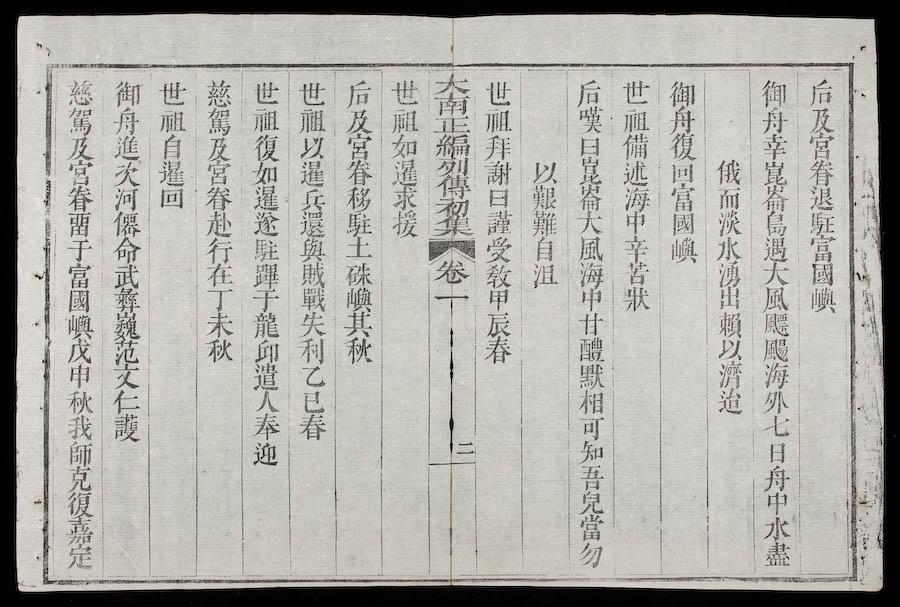c: (433, 258, 472, 285), (431, 73, 473, 97), (111, 77, 144, 107), (109, 413, 142, 443), (432, 135, 473, 159), (433, 215, 475, 238), (758, 78, 790, 108), (62, 517, 96, 545), (203, 78, 234, 108), (389, 210, 421, 239), (666, 79, 698, 108), (250, 311, 282, 340), (110, 313, 142, 342), (64, 77, 96, 106), (619, 78, 651, 107), (389, 78, 421, 107), (435, 175, 472, 200), (806, 76, 836, 106), (344, 78, 374, 108), (157, 78, 188, 107), (483, 79, 514, 108), (296, 80, 328, 108), (762, 541, 794, 569), (110, 107, 142, 135), (805, 235, 838, 262), (63, 313, 96, 340), (575, 78, 604, 108), (667, 133, 698, 161), (389, 159, 420, 187), (250, 79, 281, 107), (297, 413, 328, 441), (203, 108, 234, 136), (250, 134, 281, 162), (528, 211, 560, 238), (805, 133, 837, 160), (805, 159, 837, 186), (807, 287, 839, 314), (620, 286, 652, 313), (482, 338, 514, 365), (667, 237, 699, 264), (296, 311, 328, 338), (63, 415, 96, 441), (342, 338, 375, 364), (62, 545, 96, 570), (65, 106, 95, 134), (806, 106, 836, 134), (575, 107, 605, 135), (714, 158, 744, 186), (668, 184, 698, 212), (482, 135, 513, 162), (296, 108, 327, 135), (620, 134, 651, 161), (483, 237, 514, 264), (251, 412, 282, 439), (759, 160, 790, 187), (250, 440, 281, 467), (576, 363, 607, 390), (297, 211, 328, 238), (483, 210, 514, 237), (203, 211, 234, 238), (342, 312, 374, 338), (759, 186, 791, 212), (63, 491, 95, 517), (805, 185, 837, 211), (759, 236, 791, 262), (64, 186, 96, 212), (758, 134, 790, 160), (63, 389, 95, 415), (110, 135, 142, 161), (110, 237, 142, 263), (342, 261, 374, 287), (575, 390, 607, 416), (203, 312, 235, 338), (203, 238, 235, 264), (110, 211, 142, 237), (805, 210, 838, 235), (432, 96, 471, 117), (715, 361, 744, 389), (297, 160, 327, 187), (576, 514, 606, 541), (761, 465, 791, 492), (64, 262, 94, 289), (251, 363, 281, 390), (621, 235, 651, 262), (343, 134, 373, 161), (156, 160, 186, 187), (482, 161, 513, 187), (389, 108, 420, 134), (760, 363, 791, 389), (295, 338, 326, 364), (620, 161, 651, 187), (482, 108, 513, 134), (761, 515, 793, 540), (109, 340, 141, 365), (203, 338, 235, 363), (433, 290, 471, 311), (109, 390, 142, 414), (203, 263, 236, 287), (715, 311, 744, 338), (714, 210, 743, 237), (484, 311, 513, 338), (576, 236, 605, 263), (529, 185, 559, 211), (344, 161, 374, 187), (298, 262, 328, 288), (577, 464, 607, 490), (575, 186, 605, 212), (759, 108, 789, 134), (64, 212, 94, 238), (111, 161, 141, 187), (251, 263, 281, 289), (576, 337, 606, 363), (344, 109, 374, 135), (250, 108, 281, 133), (64, 441, 95, 466), (157, 109, 188, 134), (64, 339, 95, 364), (110, 288, 141, 313), (110, 264, 141, 289), (620, 109, 651, 134), (203, 186, 234, 211), (250, 186, 281, 211), (433, 199, 473, 218), (577, 158, 604, 186), (576, 542, 605, 568), (715, 389, 744, 415), (530, 263, 559, 289), (483, 264, 513, 289), (576, 439, 606, 464), (65, 135, 95, 160), (761, 287, 791, 312), (203, 161, 233, 186), (761, 338, 791, 363), (298, 287, 328, 312), (667, 109, 697, 134), (621, 187, 651, 212), (343, 187, 373, 212), (251, 212, 281, 237), (761, 414, 792, 438), (63, 466, 94, 490), (761, 313, 792, 337), (110, 365, 141, 389), (760, 262, 791, 286), (250, 288, 281, 312), (760, 390, 791, 414), (343, 287, 374, 311), (249, 162, 280, 186), (714, 262, 742, 288), (297, 135, 326, 160), (761, 211, 790, 236), (576, 312, 605, 337), (530, 160, 559, 185), (714, 237, 743, 262), (298, 238, 327, 263), (576, 263, 605, 288), (344, 212, 373, 237), (435, 157, 471, 177), (576, 416, 606, 440), (808, 262, 838, 286), (65, 161, 95, 185), (110, 187, 140, 211), (389, 135, 419, 159), (343, 237, 374, 260), (389, 187, 420, 210), (158, 134, 185, 160), (530, 238, 558, 263), (204, 137, 232, 162), (431, 118, 472, 135), (205, 288, 234, 312), (577, 491, 606, 515), (621, 262, 650, 286), (714, 187, 743, 211), (252, 340, 281, 364), (251, 238, 280, 262), (298, 188, 327, 212), (575, 211, 604, 235), (64, 364, 94, 387), (64, 238, 94, 261), (299, 364, 327, 388), (65, 289, 93, 313), (669, 212, 697, 236), (252, 390, 281, 413), (157, 187, 186, 210), (716, 287, 743, 311), (716, 338, 744, 361), (764, 440, 790, 464), (300, 389, 326, 413), (621, 212, 649, 234), (762, 492, 791, 513), (578, 289, 604, 312), (485, 289, 512, 311), (485, 188, 512, 210), (669, 162, 696, 184), (577, 136, 603, 158), (454, 438, 475, 456)
